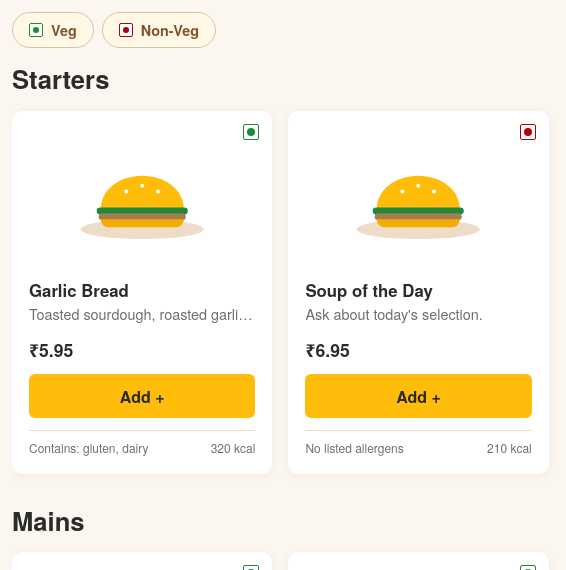
it: MenuList — Veg / Non-Veg chips (mcdelivery-redesign AC-U4) › filters to vegetarian items, and back to everything when pressed again
This screenshot has width=566, height=570.
Click the button "Veg" at (53, 30), box [12,12,94,48]
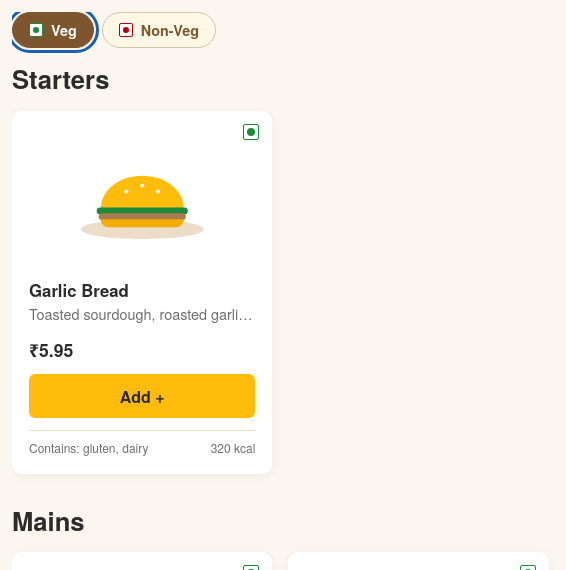
Expected: the heading "Garlic Bread" is shown, [29,278,129,302]
Result: the button "Soup of the Day" is gone
Click the button "Veg" at (53, 30), box [12,12,94,48]
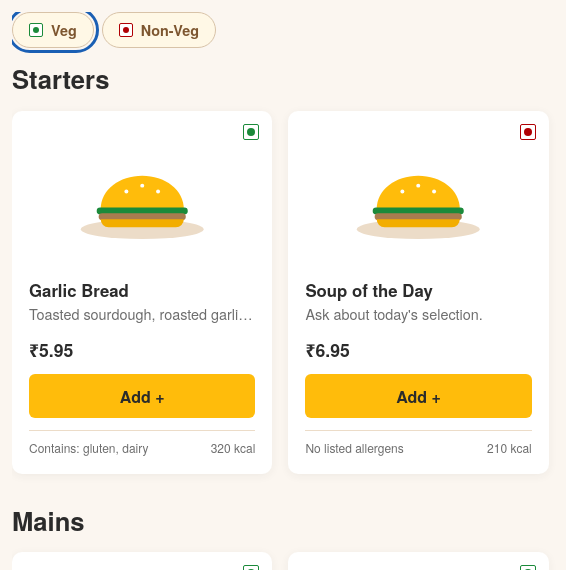
Result: the heading "Soup of the Day" is shown at [305,278,433,302]
